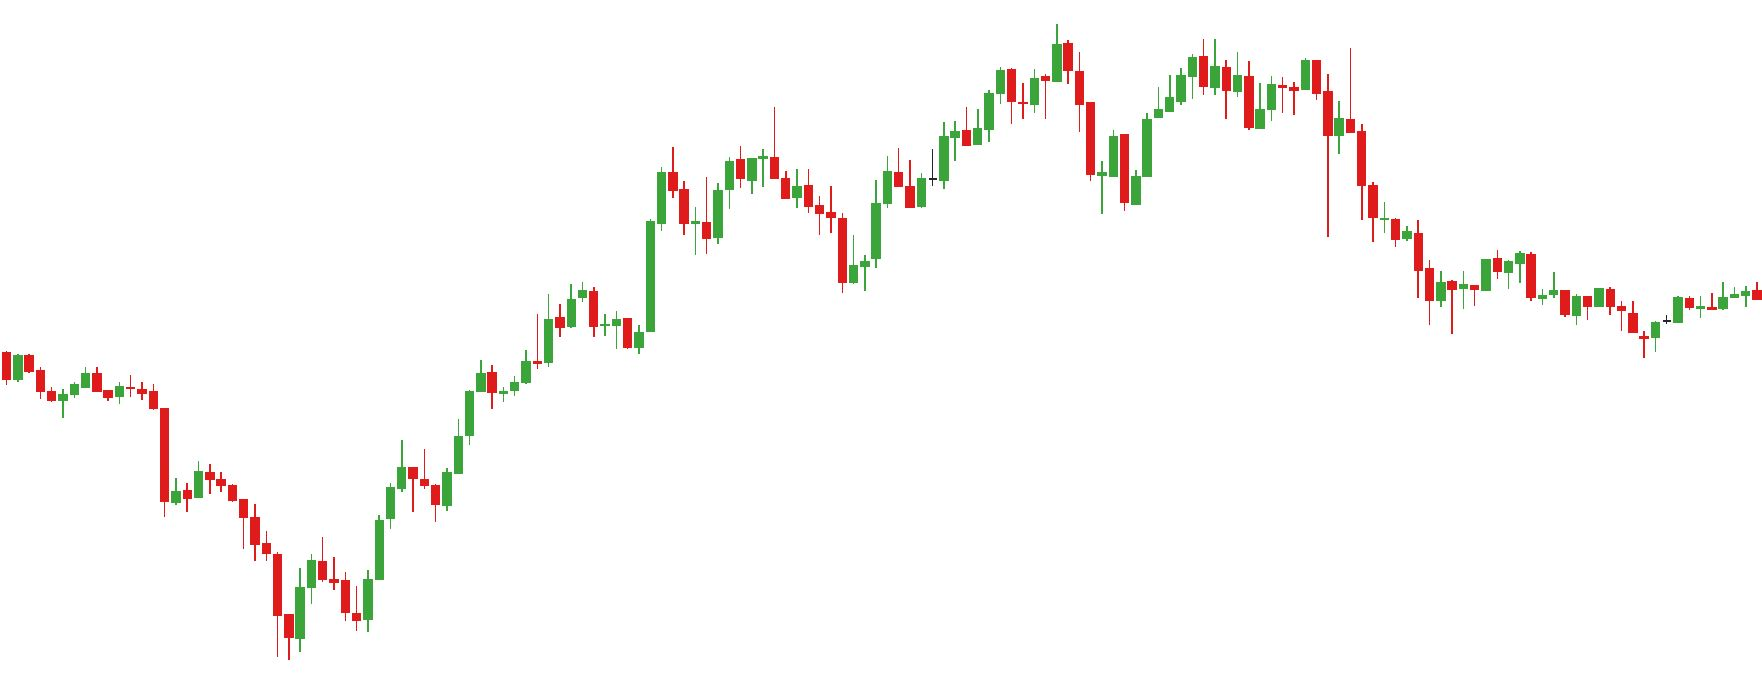buy: (689, 175, 884, 292)
sell: (994, 22, 1075, 103)
